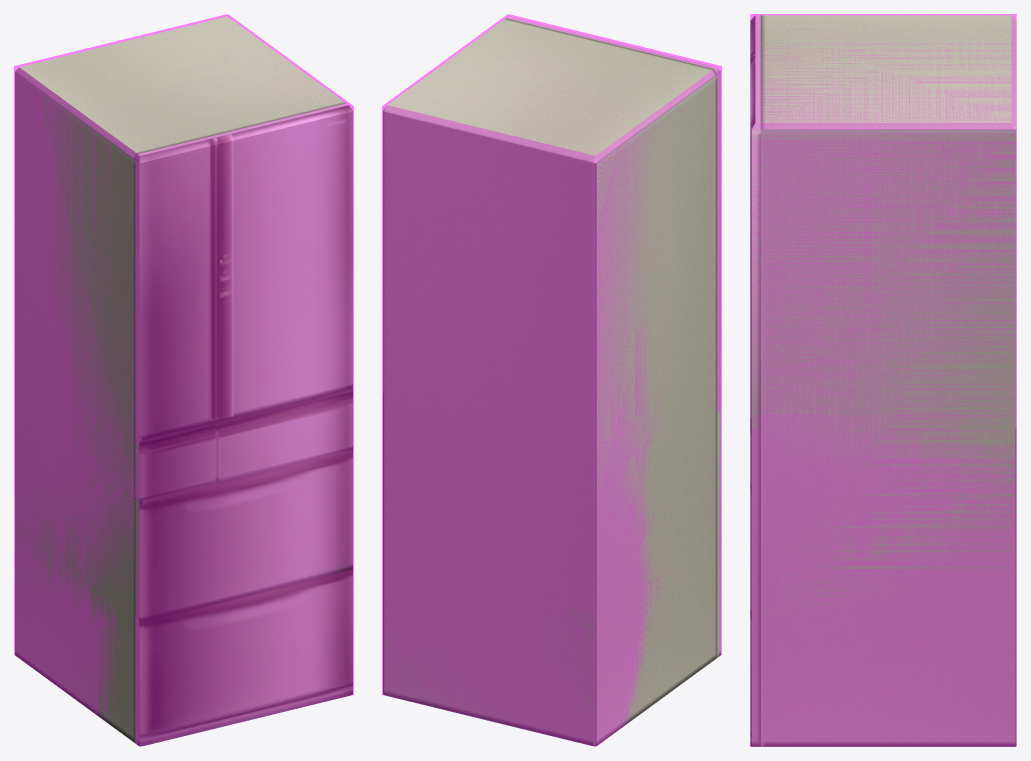
The model's file is fridge_A.fbx.
3 renders of one model, left to right at view 1: azimuth 30°, elevation 25°; view 2: azimuth 150°, elevation 25°; view 3: azimuth 270°, elevation 25°, orthographic. The views are drawn at different scales.
Visible parts, largest first — view 1: fridge_A, fridge_A_boundingBox; view 2: fridge_A, fridge_A_boundingBox; view 3: fridge_A, fridge_A_boundingBox.
Boxes of the visible parts, bbox=[...] form: fridge_A: bbox=[15, 16, 352, 746]; fridge_A_boundingBox: bbox=[14, 14, 353, 746]; fridge_A: bbox=[383, 16, 720, 746]; fridge_A_boundingBox: bbox=[382, 14, 721, 746]; fridge_A: bbox=[750, 15, 1016, 746]; fridge_A_boundingBox: bbox=[750, 14, 1016, 746].
Bounding box in the file's own units: 68.5 × 180 × 69.9.
Materials: 4 (2 with a texture image).
